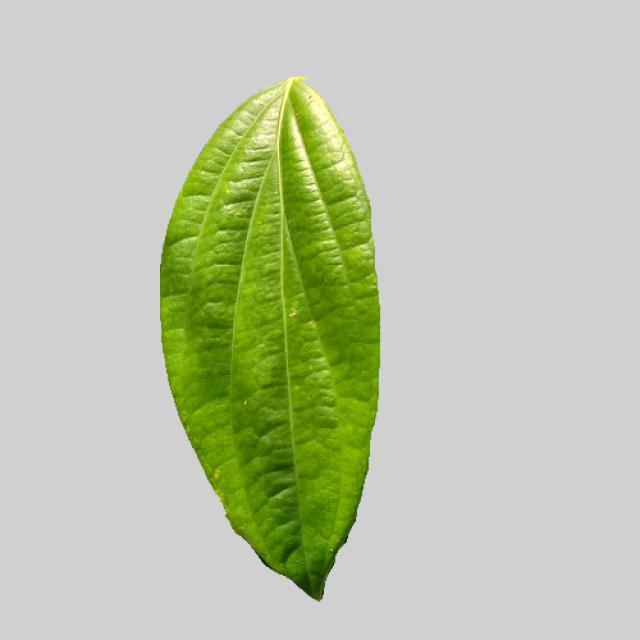healthy: (152, 72, 392, 604)
